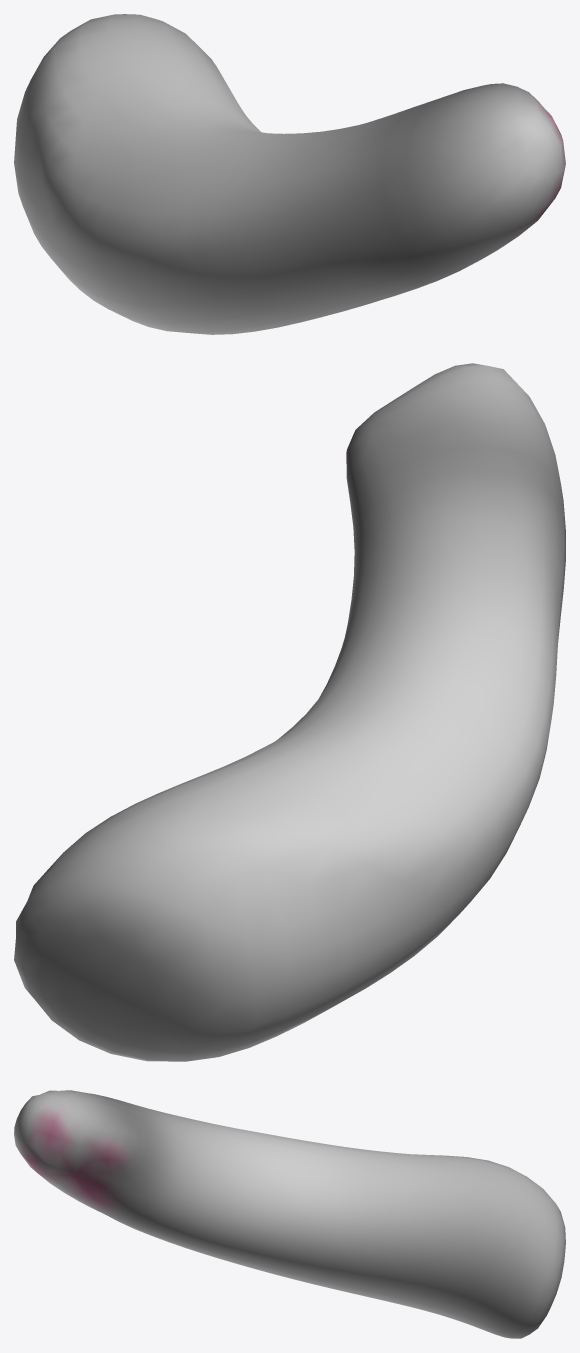
The model's file is bongo_arm_left.fbx.
3 renders of one model, top to bottom at view 1: azimuth 30°, elevation 25°; view 2: azimuth 150°, elevation 25°; view 3: azimuth 270°, elevation 25°, orthographic. The views are drawn at different scales.
Parts seen in each view (by area): view 1: bongo_arm_left; view 2: bongo_arm_left; view 3: bongo_arm_left.
Boxes of the visible parts, x1=… form: bongo_arm_left: x1=14, y1=14, x2=565, y2=334; bongo_arm_left: x1=14, y1=363, x2=565, y2=1061; bongo_arm_left: x1=14, y1=1090, x2=565, y2=1338.
Size of the model in its own units: 0.3146 by 0.3955 by 0.7906.
